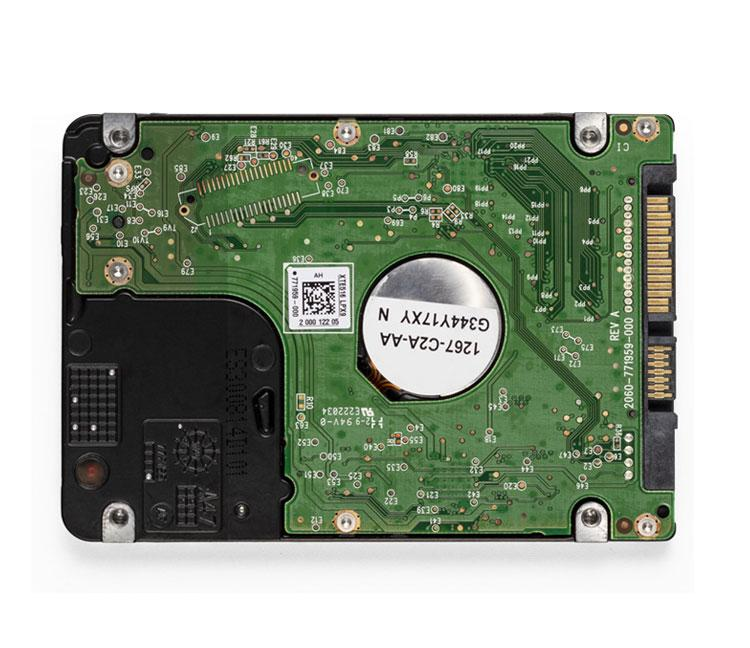internal HDD: (59, 112, 678, 546)
